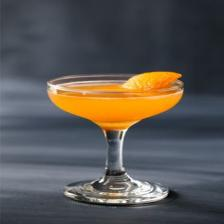orange: (47, 74, 184, 131)
